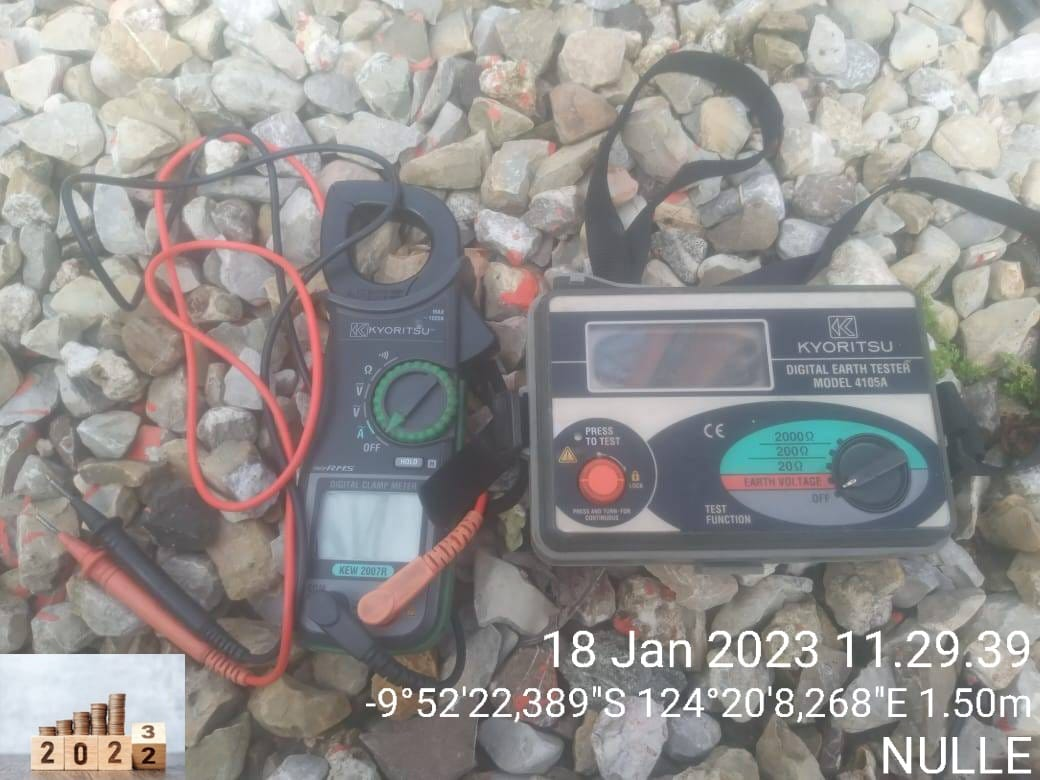EARTH_GROUNDING_TESTER: (529, 282, 956, 566)
TANG_AMPERE: (286, 178, 497, 652)
